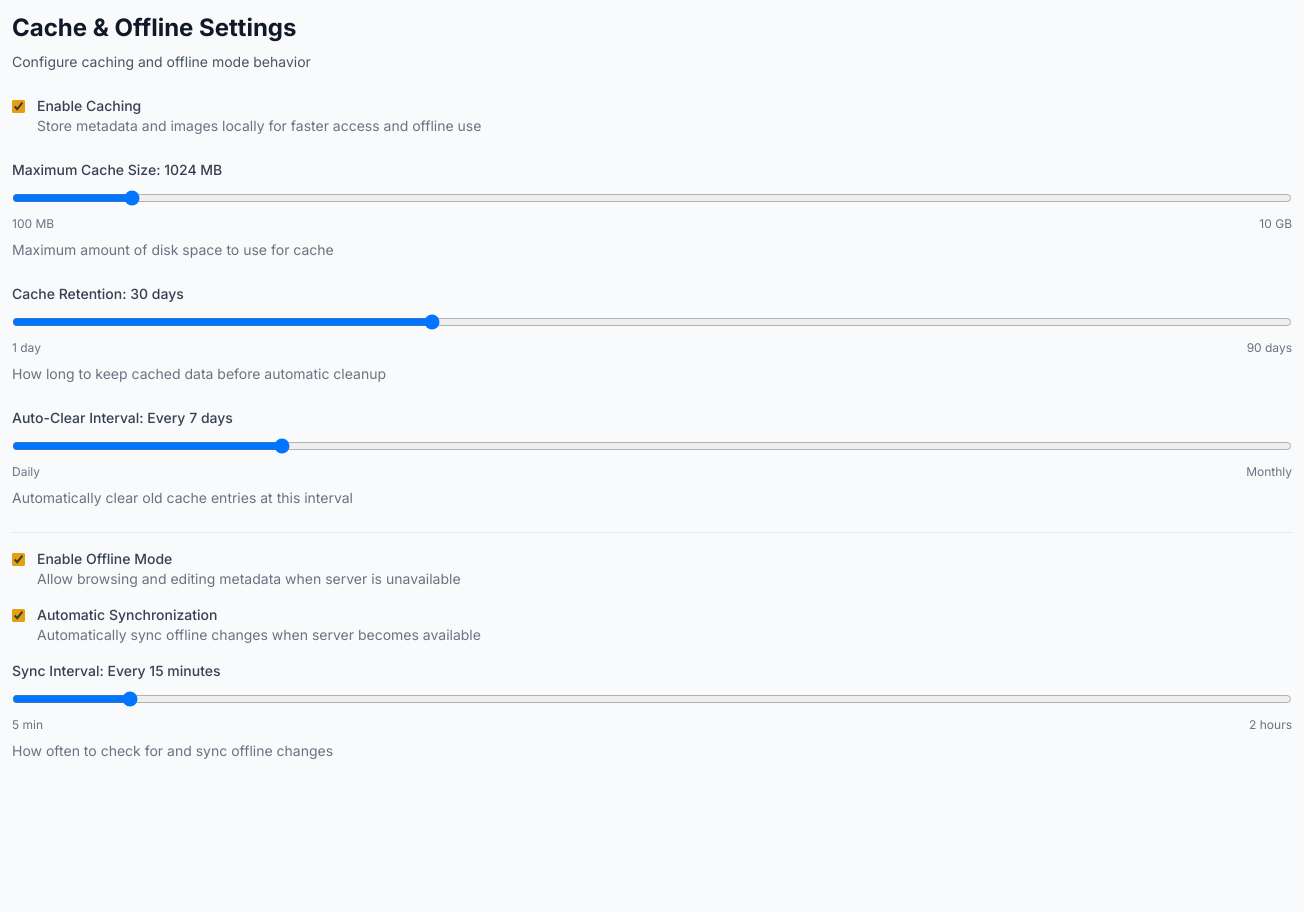
Test case: CacheSettings › should toggle cache enabled
What coordinates should you click on to do the following:
click the checkbox labelled "Enable Caching"
I would click on:
 (18, 106)
Its box is left=12, top=100, right=25, bottom=113.
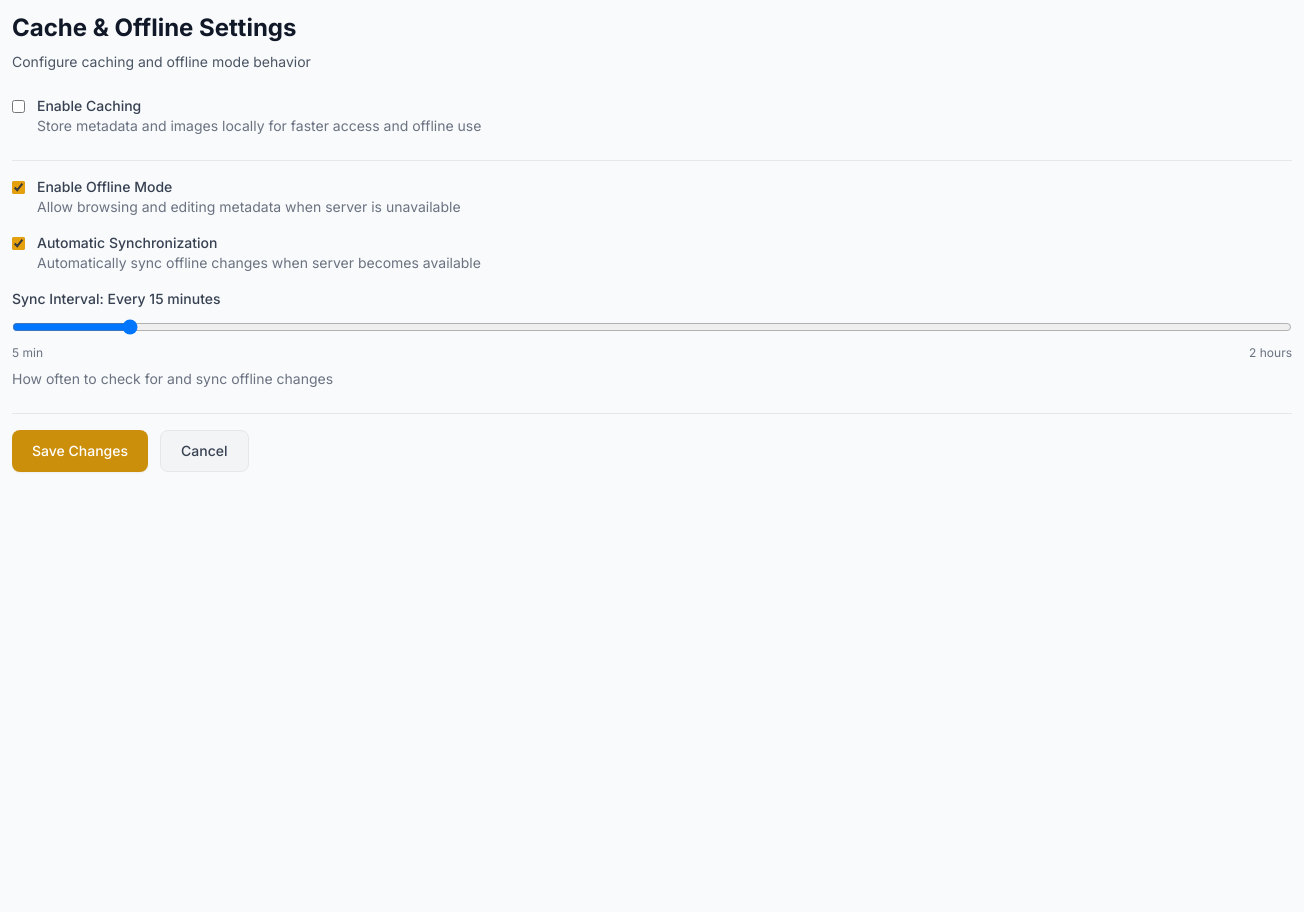
Check: the checkbox labelled "Enable Caching" is not checked, box left=12, top=100, right=25, bottom=113
Check: the text "Save Changes" is shown, box left=32, top=441, right=128, bottom=461
